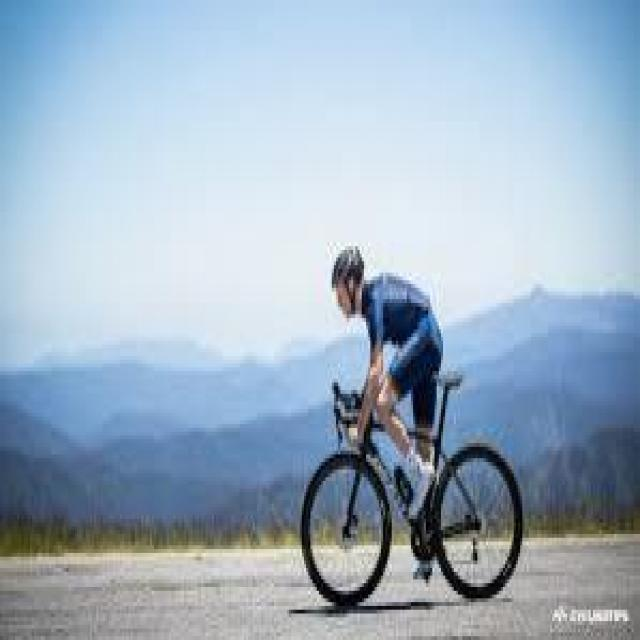bicycle: (299, 364, 526, 607)
